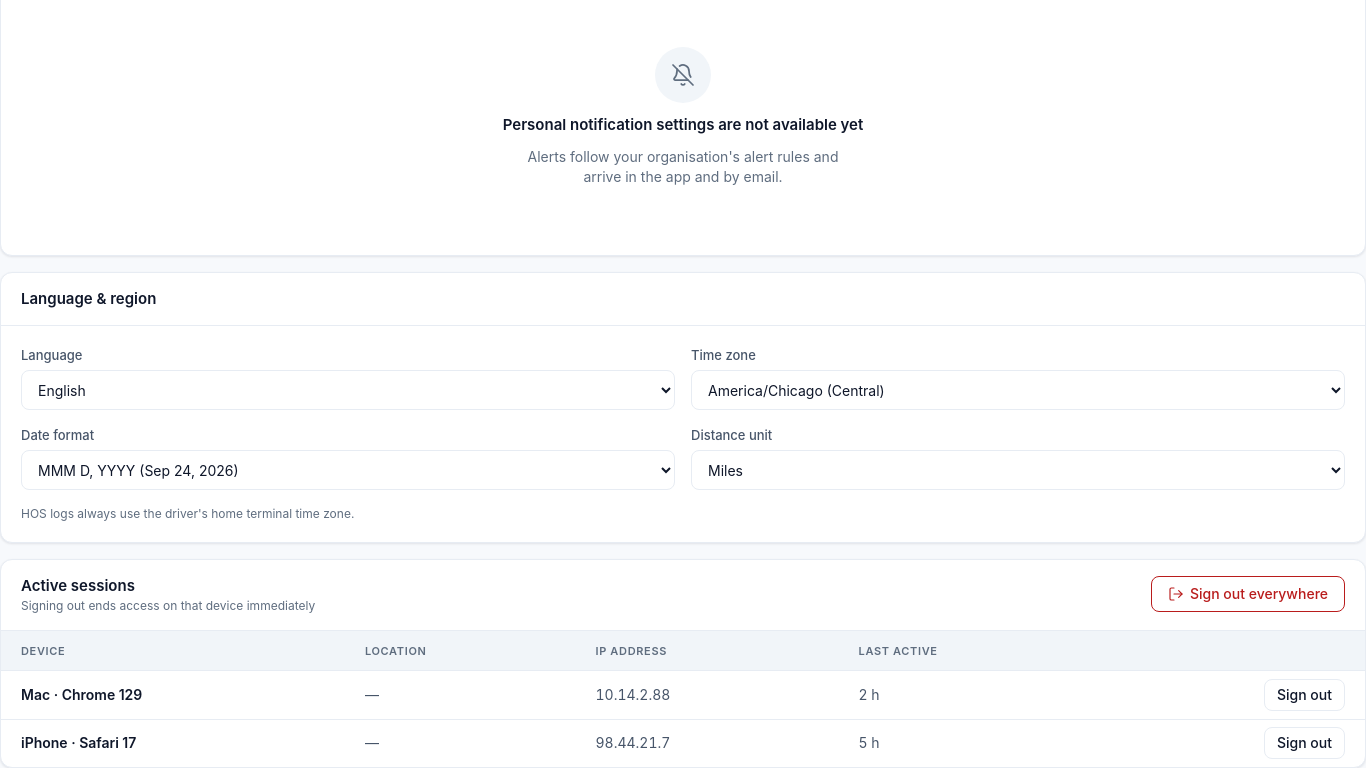
Test: W-26 — Language & region (GET/PUT /me/preferences, B-11) › saves the merged row with PUT (saved views survive) and toasts `Settings saved`
The image size is (1366, 768).
(page scrolled)
Select "America/Denver (Mountain)" in the dropdown labelled "Time zone" at (1018, 390), box [691,370,1345,410]
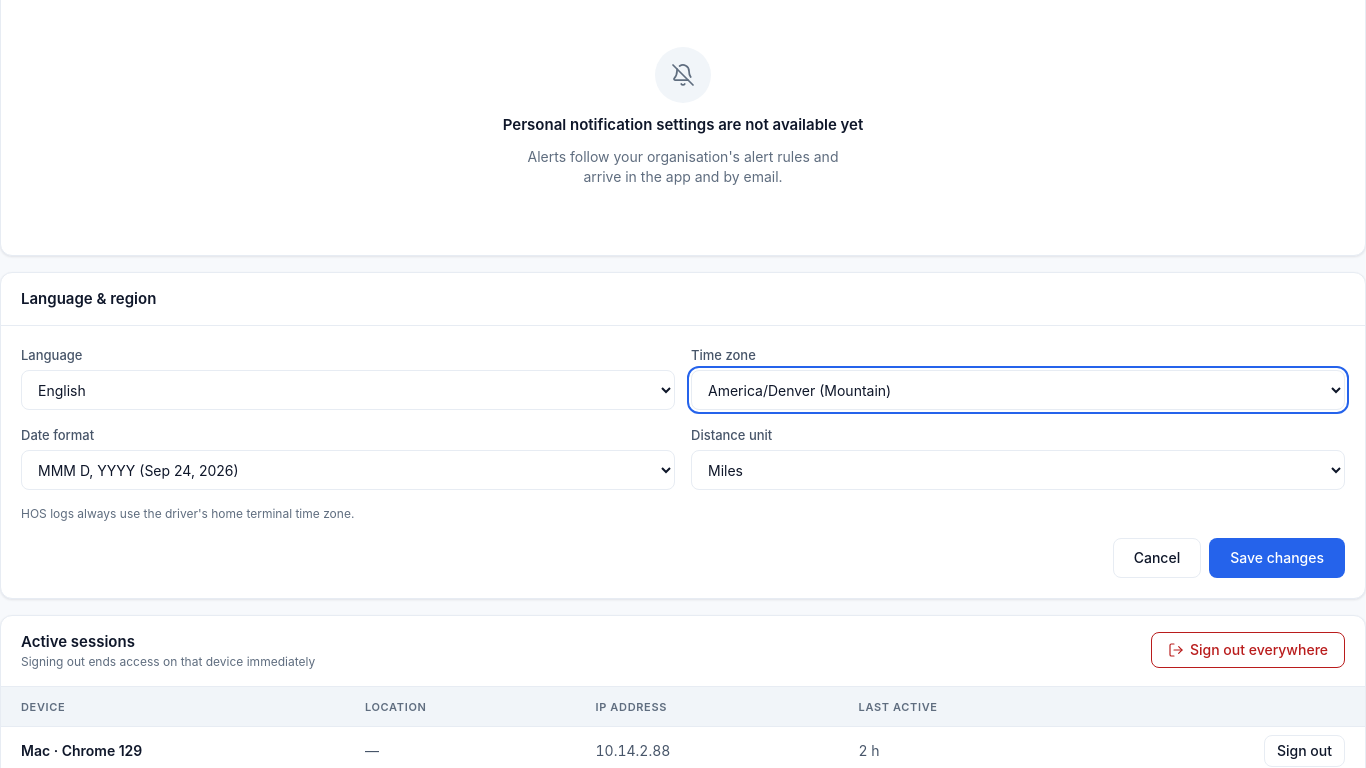
Select "Kilometers" in the dropdown labelled "Distance unit" at (1018, 470), box [691,450,1345,490]
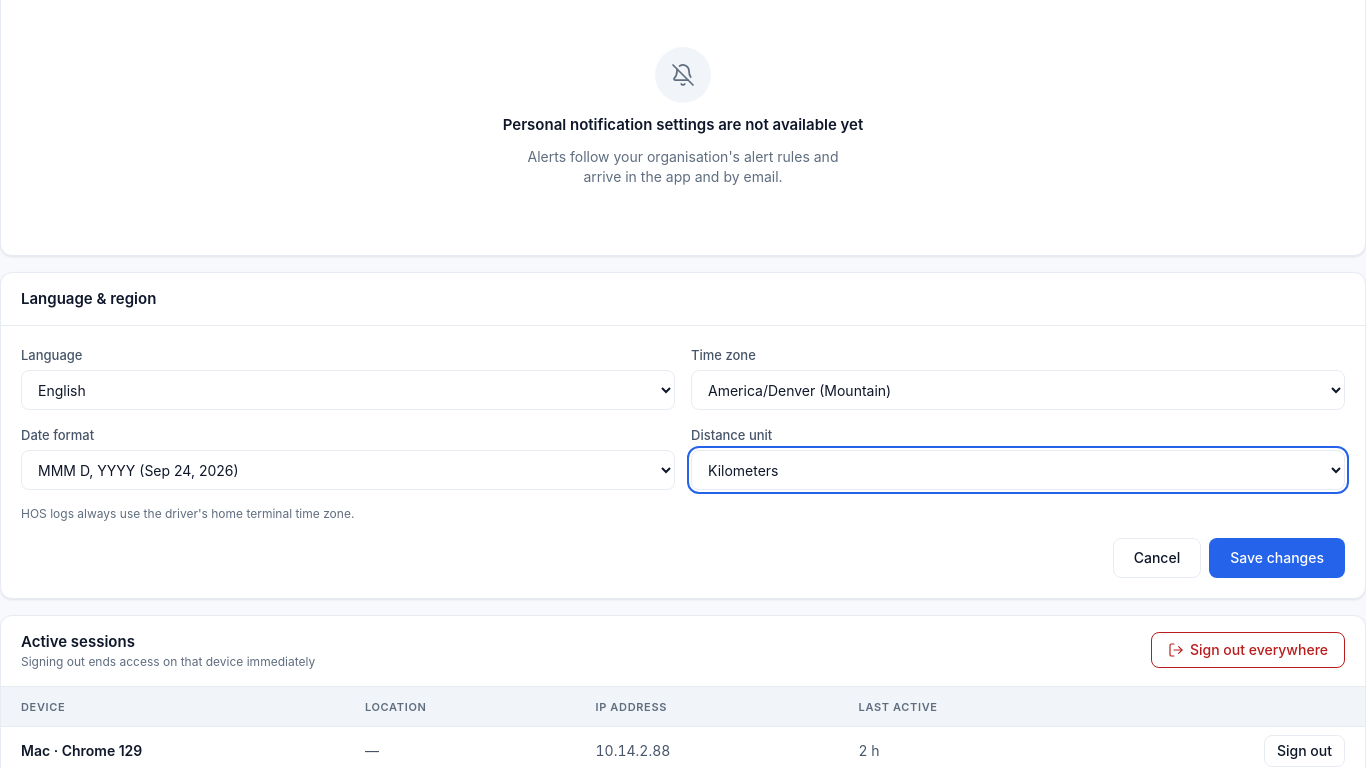
Click the button "Save changes" at (1277, 558), box [1209,538,1345,578]
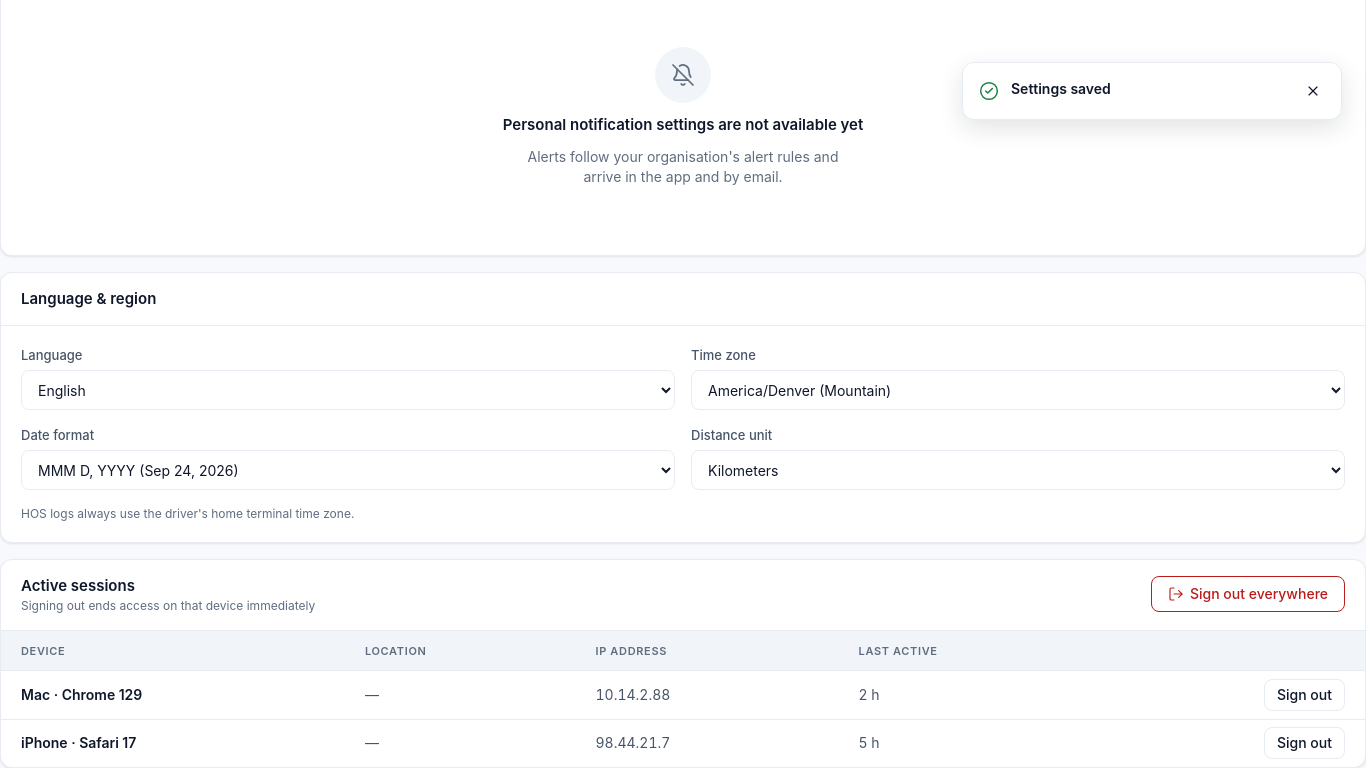
Expected: the text "Settings saved" is shown, [1011,80,1111,97]
Expected: the button "Save changes" is gone
